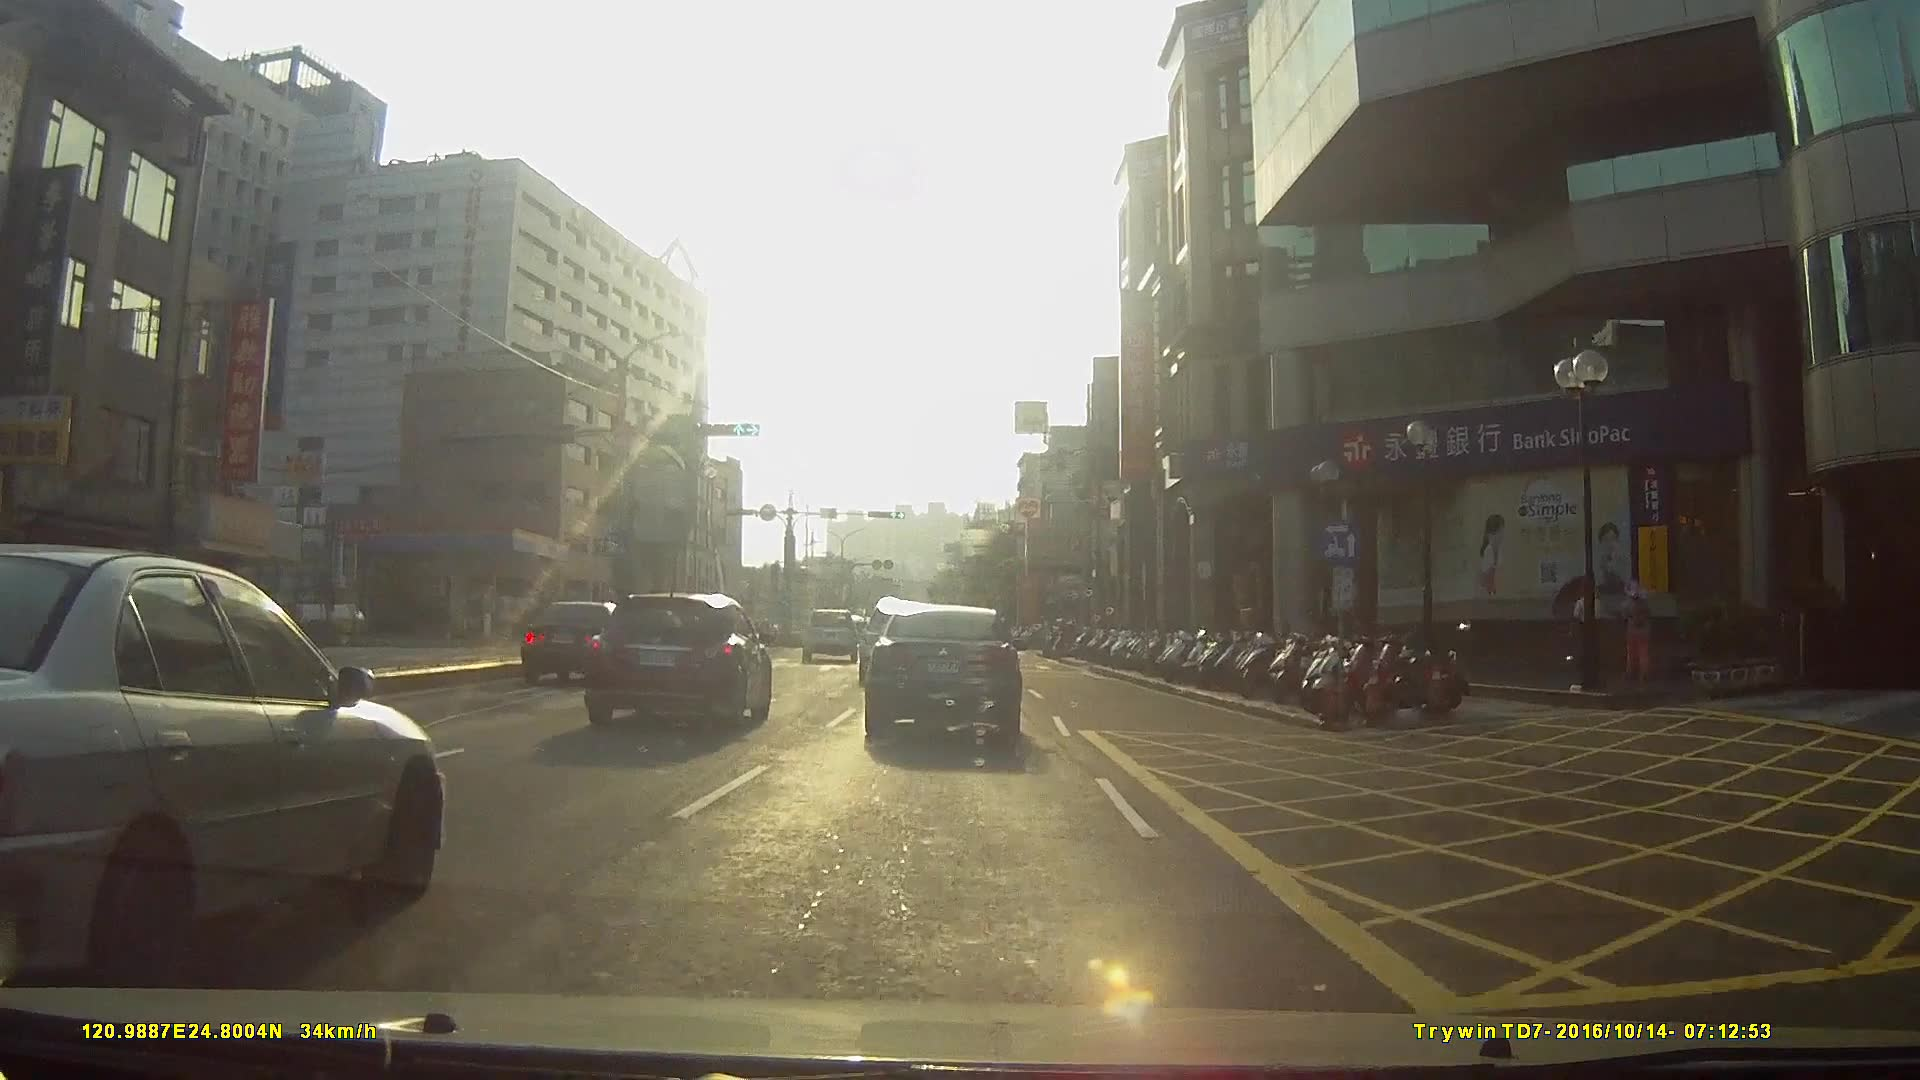pedestrian: (1617, 571, 1664, 698), (1566, 578, 1613, 694)
vehicle: (0, 546, 435, 1009), (576, 590, 767, 732), (863, 605, 1022, 747), (518, 597, 645, 687), (802, 608, 861, 663)
